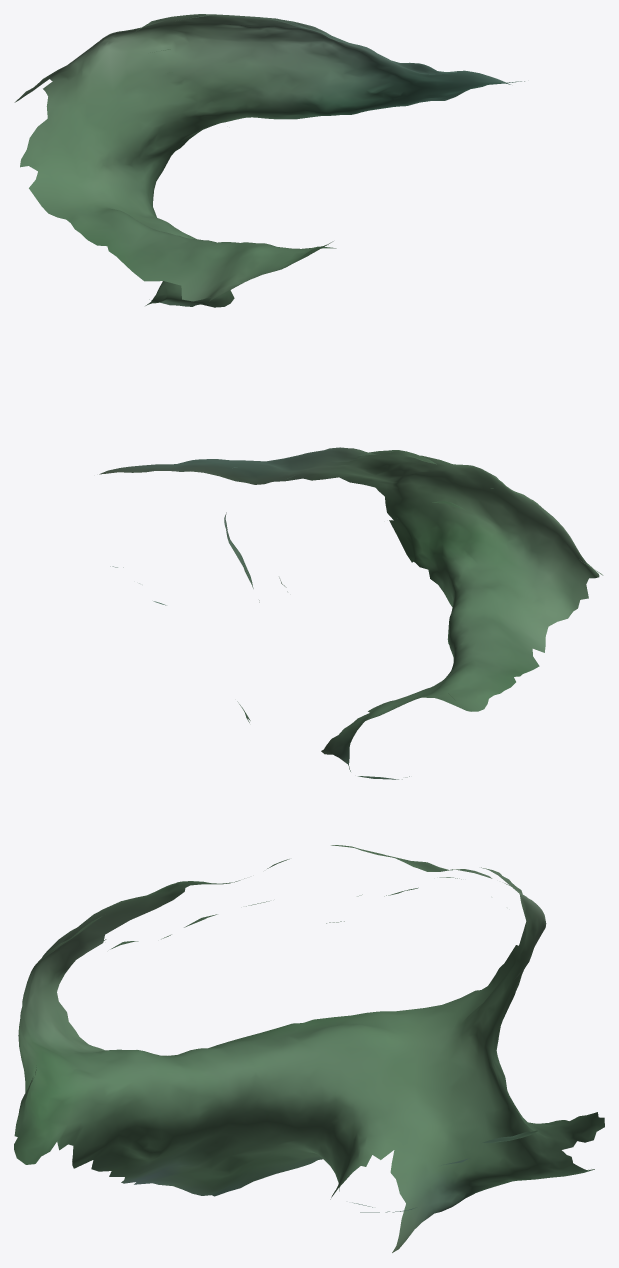
File: LODS_Cloud_global_20.glb
3 views of the same model, one above another, from view 1: azimuth 30°, elevation 25°; view 2: azimuth 150°, elevation 25°; view 3: azimuth 270°, elevation 25° (orthographic). The views are drawn at different scales.
Parts seen in each view (by area): view 1: LOD0; view 2: LOD0; view 3: LOD0.
Boxes of the visible parts, box(x1,y1,x2,y2) form: LOD0: box(14, 14, 524, 307); LOD0: box(99, 447, 603, 779); LOD0: box(14, 845, 604, 1252).
Size of what is drawn, in the model's own units: 0.3512 by 0.2041 by 0.2629.
